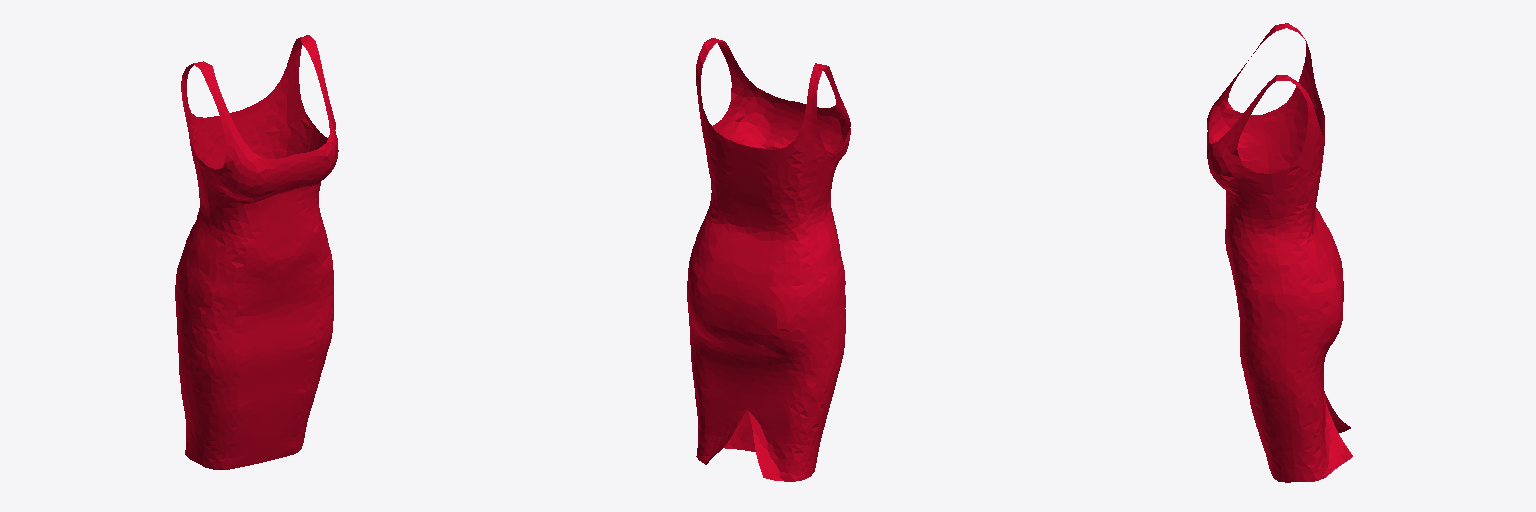
3 renders of one model, left to right at view 1: azimuth 30°, elevation 25°; view 2: azimuth 150°, elevation 25°; view 3: azimuth 270°, elevation 25°, orthographic.
Parts seen in each view (by area): view 1: small_redBodycon_noinside:polySurface2 small_redBodycon_noinside; view 2: small_redBodycon_noinside:polySurface2 small_redBodycon_noinside; view 3: small_redBodycon_noinside:polySurface2 small_redBodycon_noinside.
Boxes of the visible parts, <box> form: small_redBodycon_noinside:polySurface2 small_redBodycon_noinside: <box>175,35,338,469</box>; small_redBodycon_noinside:polySurface2 small_redBodycon_noinside: <box>687,38,850,481</box>; small_redBodycon_noinside:polySurface2 small_redBodycon_noinside: <box>1207,23,1352,482</box>.
Bounding box in the file's own units: 3.24 × 8.83 × 2.88.
Materials: 2 (1 with a texture image).